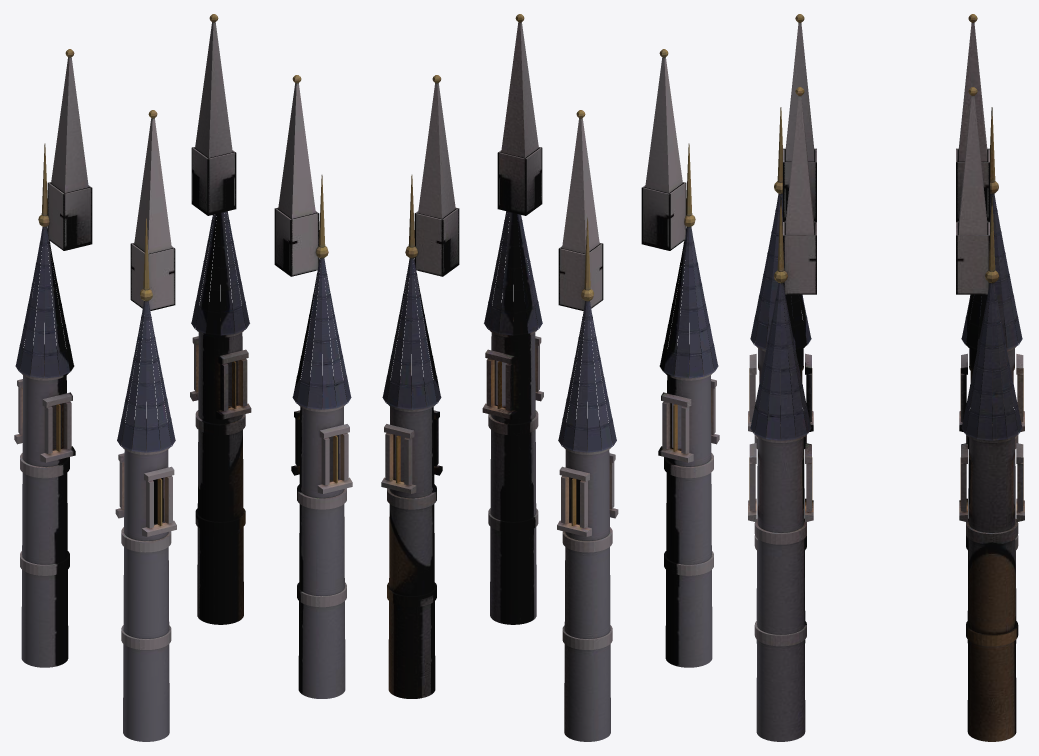
The model's file is expand_clock_auxiliary.glb.
3 views of the same model, side by side, from view 1: azimuth 30°, elevation 25°; view 2: azimuth 150°, elevation 25°; view 3: azimuth 270°, elevation 25° (orthographic). The views are drawn at different scales.
Parts seen in each view (by area): view 1: expand_clock_auxiliary_GI; view 2: expand_clock_auxiliary_GI; view 3: expand_clock_auxiliary_GI.
Part boxes in pixels (x1,y1,x2,y2): expand_clock_auxiliary_GI: [14, 14, 352, 741]; expand_clock_auxiliary_GI: [381, 14, 719, 741]; expand_clock_auxiliary_GI: [748, 14, 1024, 741].
Size of the model in its own units: 7.88 by 20.28 by 8.
Materials: 1 (1 with a texture image).
